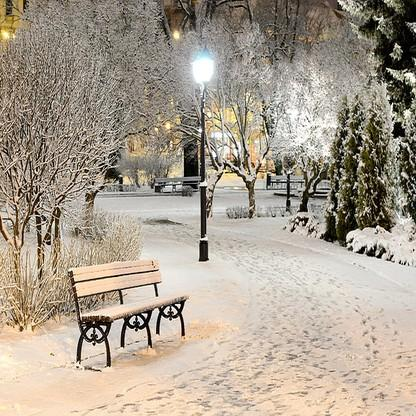obstacle: (58, 246, 190, 363)
